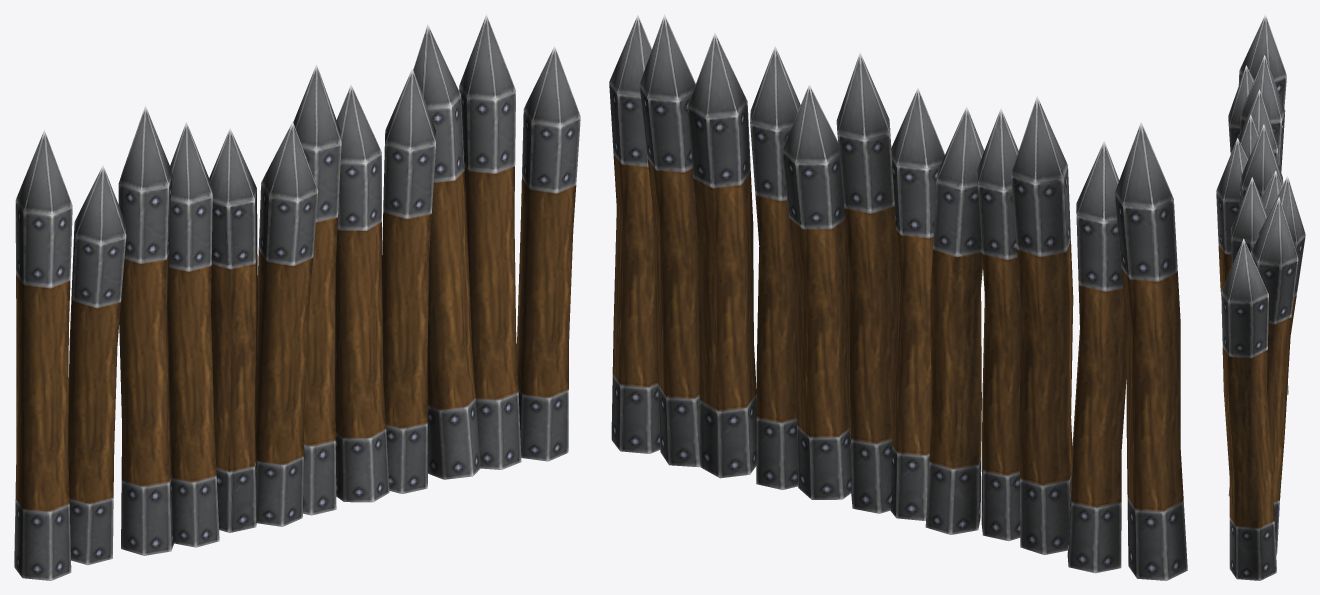
Rendered from WoodenFence02.FBX.
The picture shows the model from 3 angles, left to right: view 1: azimuth 30°, elevation 25°; view 2: azimuth 150°, elevation 25°; view 3: azimuth 270°, elevation 25°; orthographic projection. The views are drawn at different scales.
Visible parts, largest first — view 1: WoodenFence02; view 2: WoodenFence02; view 3: WoodenFence02.
Part boxes in pixels (x1,y1,x2,y2): WoodenFence02: (14, 14, 580, 580); WoodenFence02: (609, 14, 1187, 580); WoodenFence02: (1216, 14, 1305, 580).
Size of the model in its own units: 4.24 by 0.7179 by 3.19.
